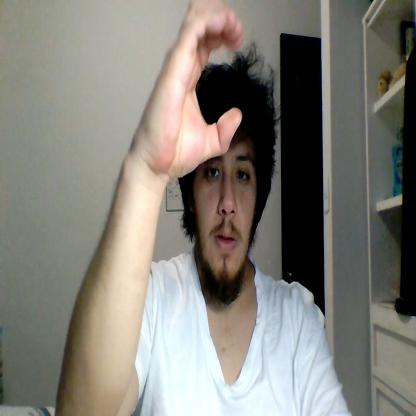C: (142, 0, 242, 179)
